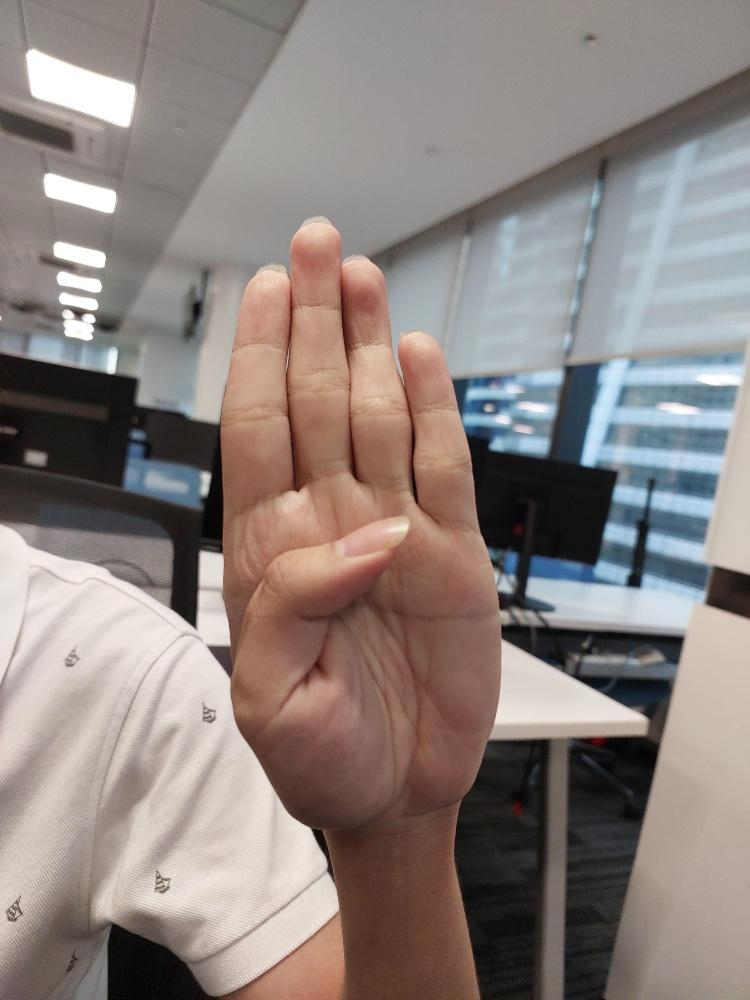b: (211, 211, 504, 826)
